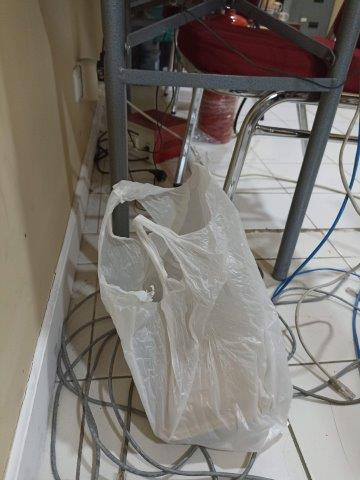plastik: (98, 160, 291, 452)
